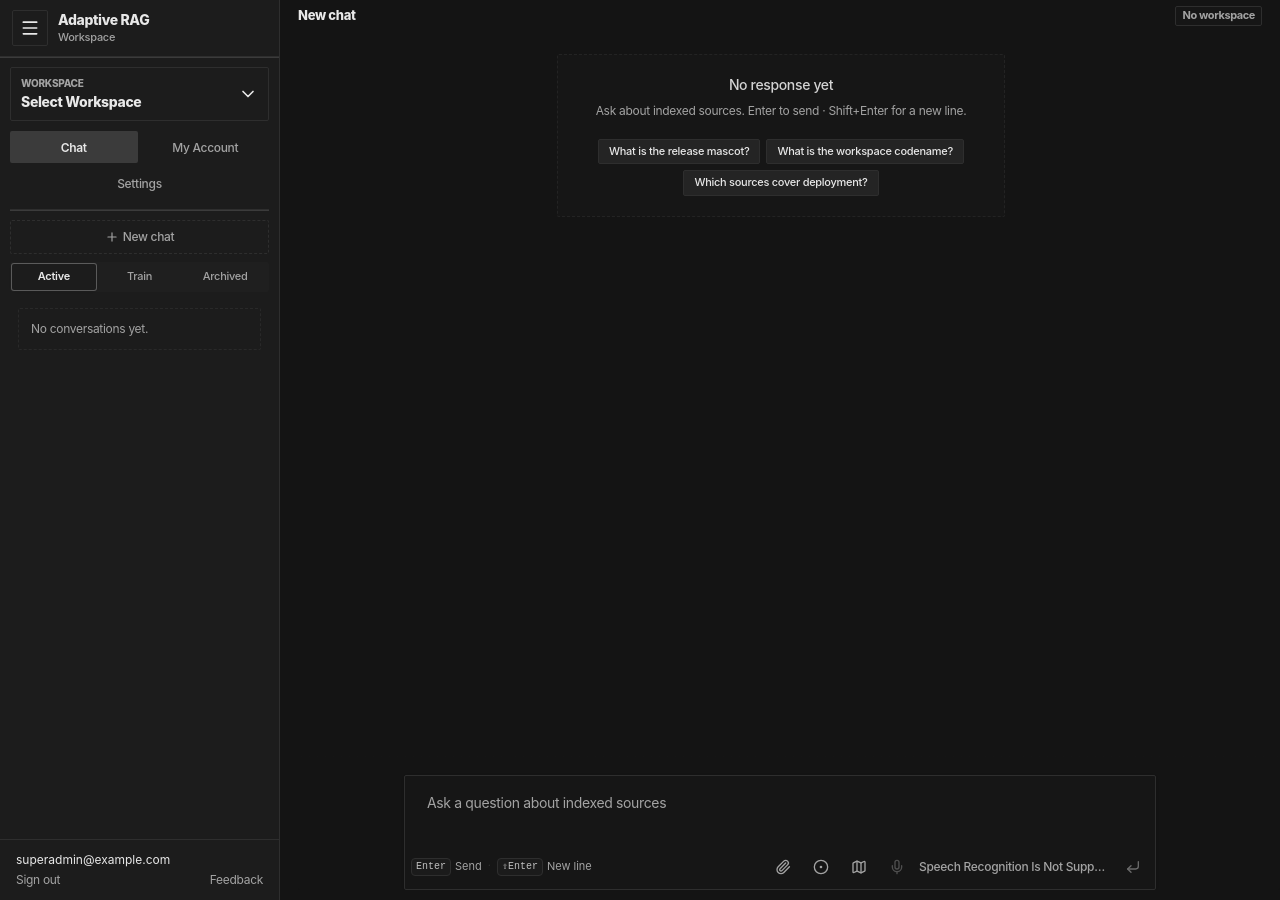
App chat workspace › orders, filters and disables sidebar workspace options
Click the button with aria-label "Workspace selector" at (140, 94), box [10, 67, 269, 121]
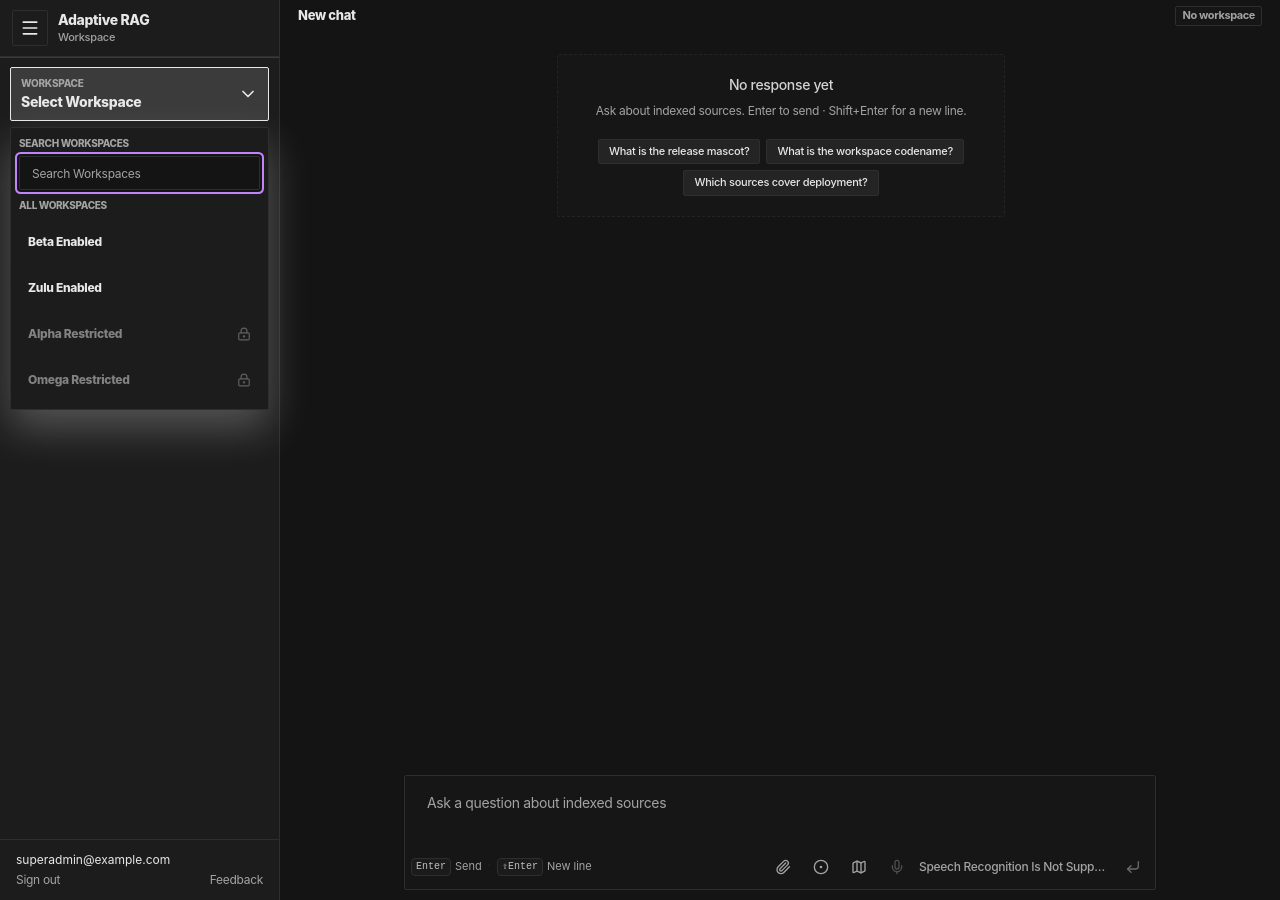
expect the option with aria-label "Select Workspace Beta Enabled" reads "Beta Enabled": met, box [19, 221, 260, 263]
expect the option named "Workspace Alpha Restricted. You do not have access to that workspace" is disabled: met, box [19, 313, 260, 355]
expect the option named "Workspace Alpha Restricted. You do not have access to that workspace" reads "Alpha Restricted": met, box [19, 313, 260, 355]
Type "omega" into the search field labelled "Search Workspaces" at (140, 173), box [19, 156, 260, 190]
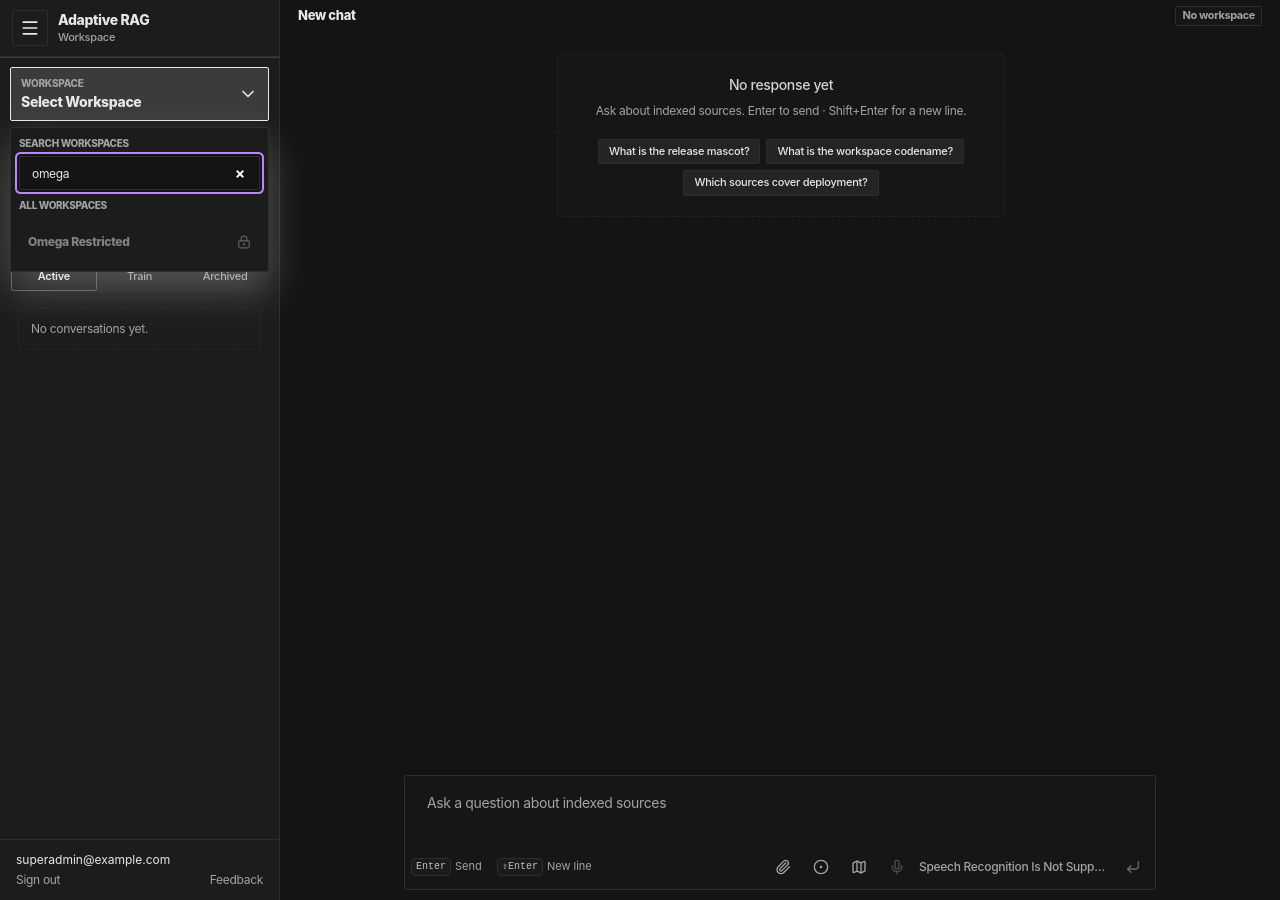
expect the option "Omega Restricted" is shown: met, box [19, 221, 260, 263]
expect the option "Beta Enabled" is gone: met
